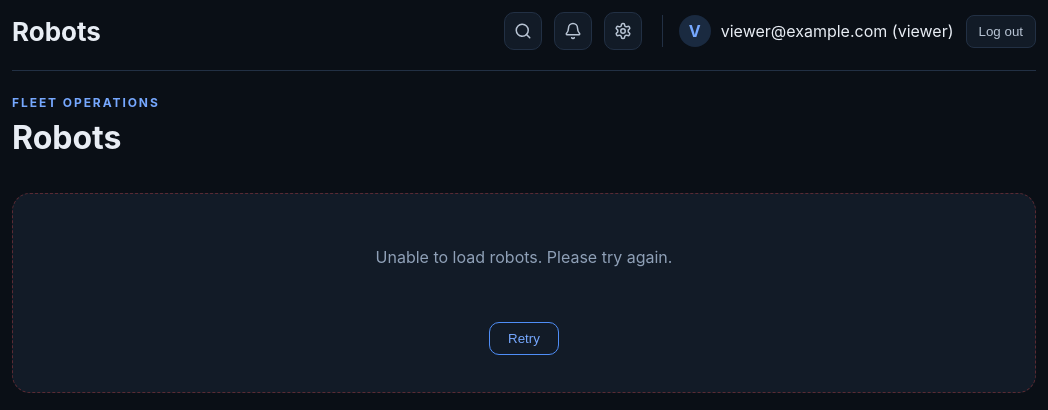
Test case: Robots page › renders a retryable load error
Expected: the text "Unable to load robots. Please try again." is shown, [376,247,672,267]
Click the button "Retry" at (524, 338), box [489,322,559,355]
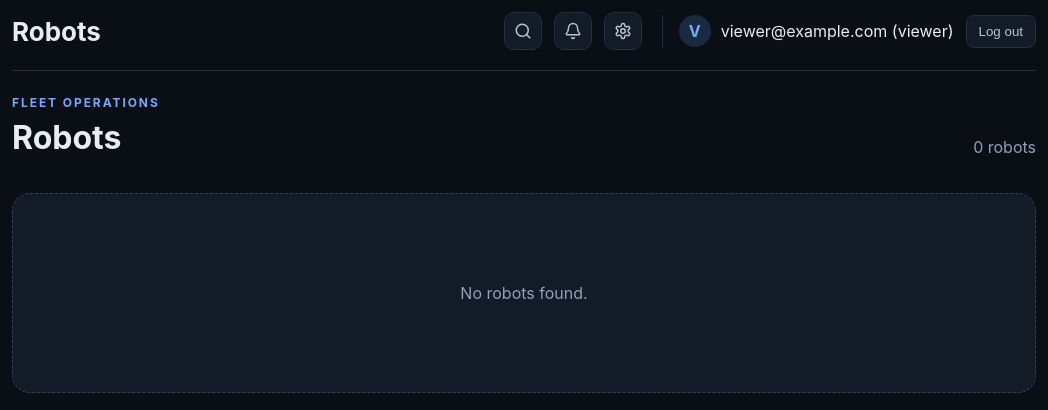
Expected: the text "No robots found." is shown, [460,283,588,303]
